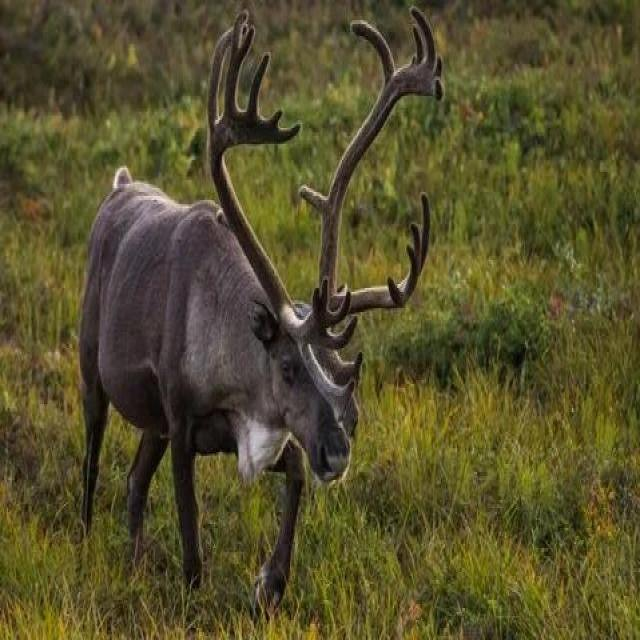deer: (92, 73, 428, 496)
